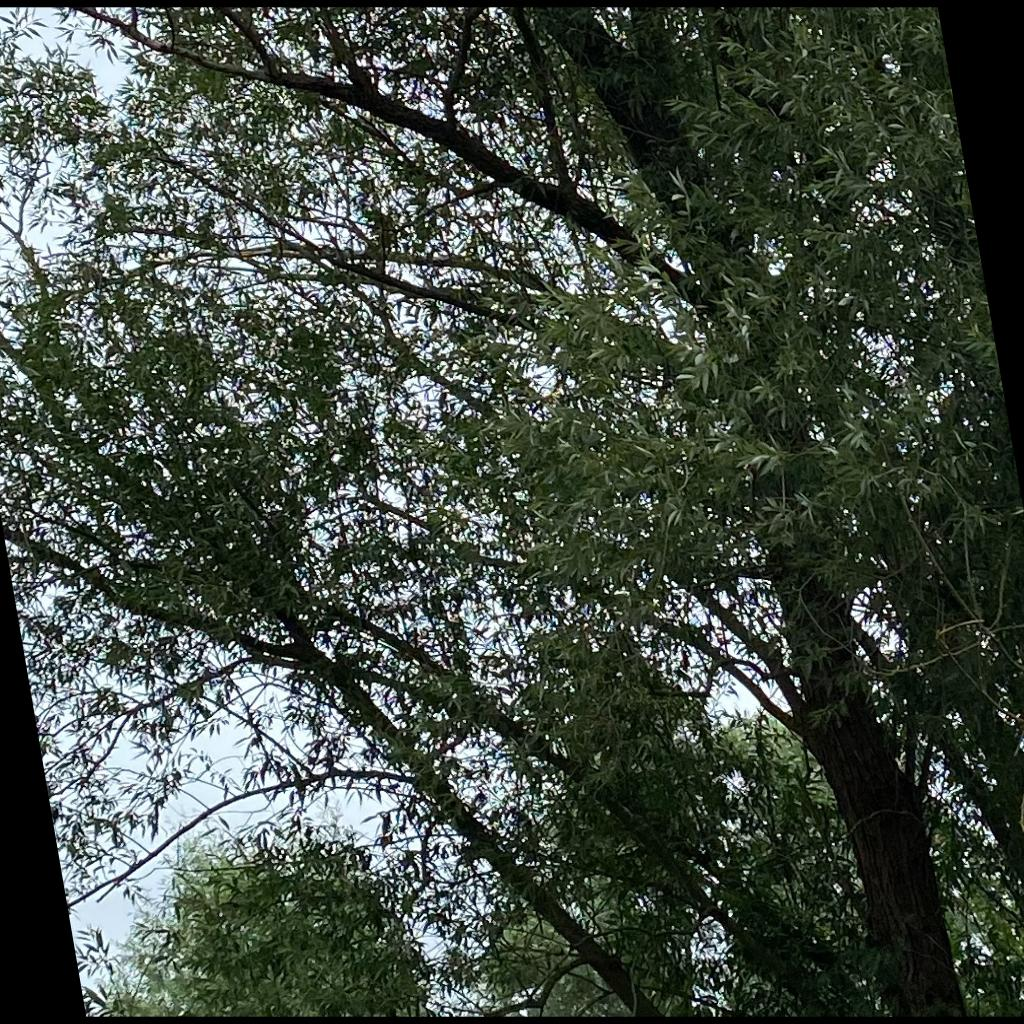tree: (1, 7, 1023, 1016), (675, 716, 1024, 1014), (476, 656, 710, 1017), (98, 826, 434, 1017)
